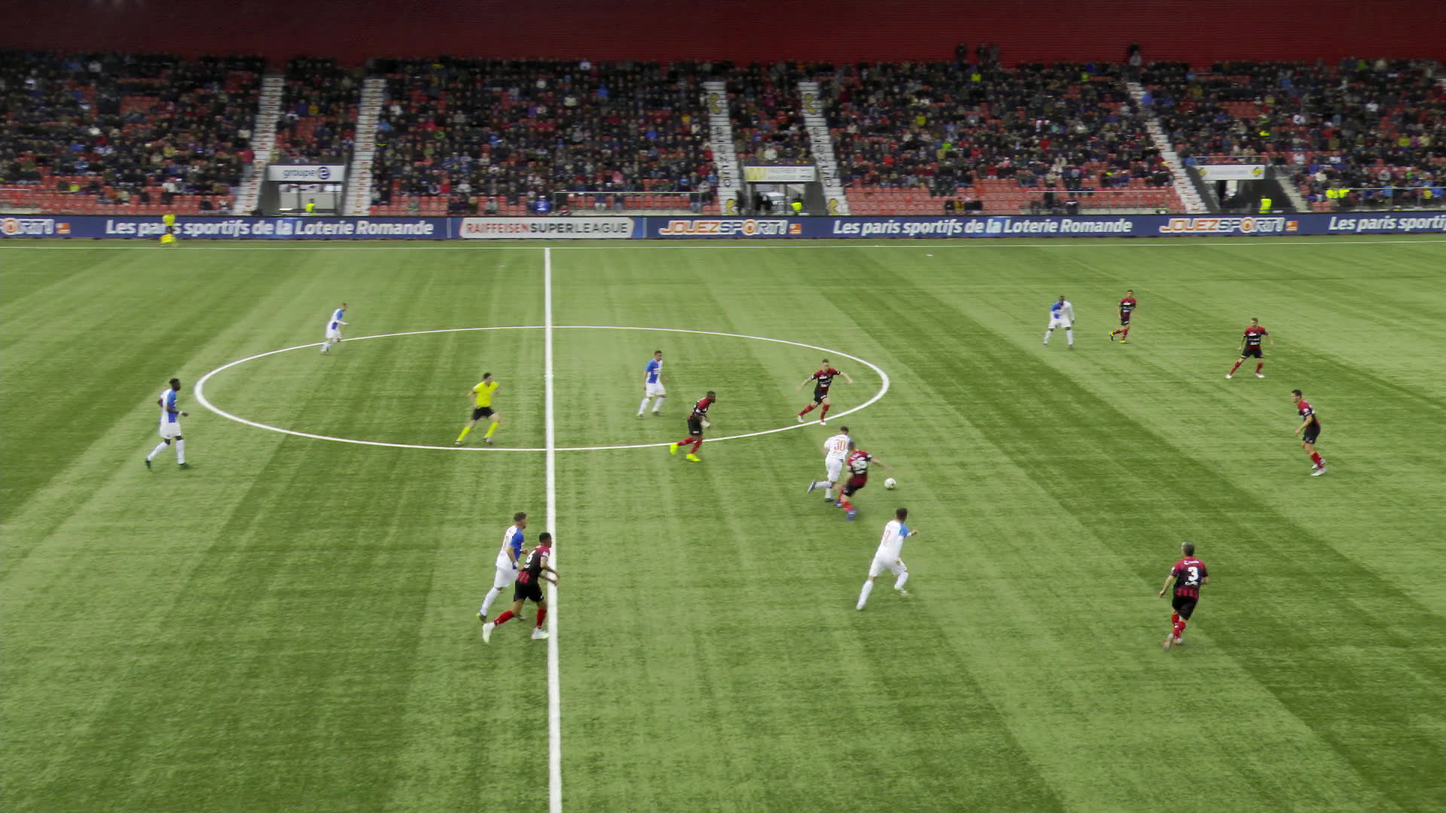ball: (884, 477, 895, 488)
player: (483, 531, 562, 647), (857, 502, 920, 607), (1159, 540, 1210, 655), (479, 513, 529, 624), (831, 440, 886, 521), (147, 377, 192, 470), (806, 428, 857, 508), (797, 357, 849, 425), (671, 391, 721, 461), (1292, 390, 1330, 476), (1234, 317, 1274, 379), (641, 351, 674, 419), (317, 303, 352, 354), (1048, 294, 1080, 349), (1112, 289, 1139, 343)
referee: (458, 370, 505, 446), (162, 209, 180, 246)
